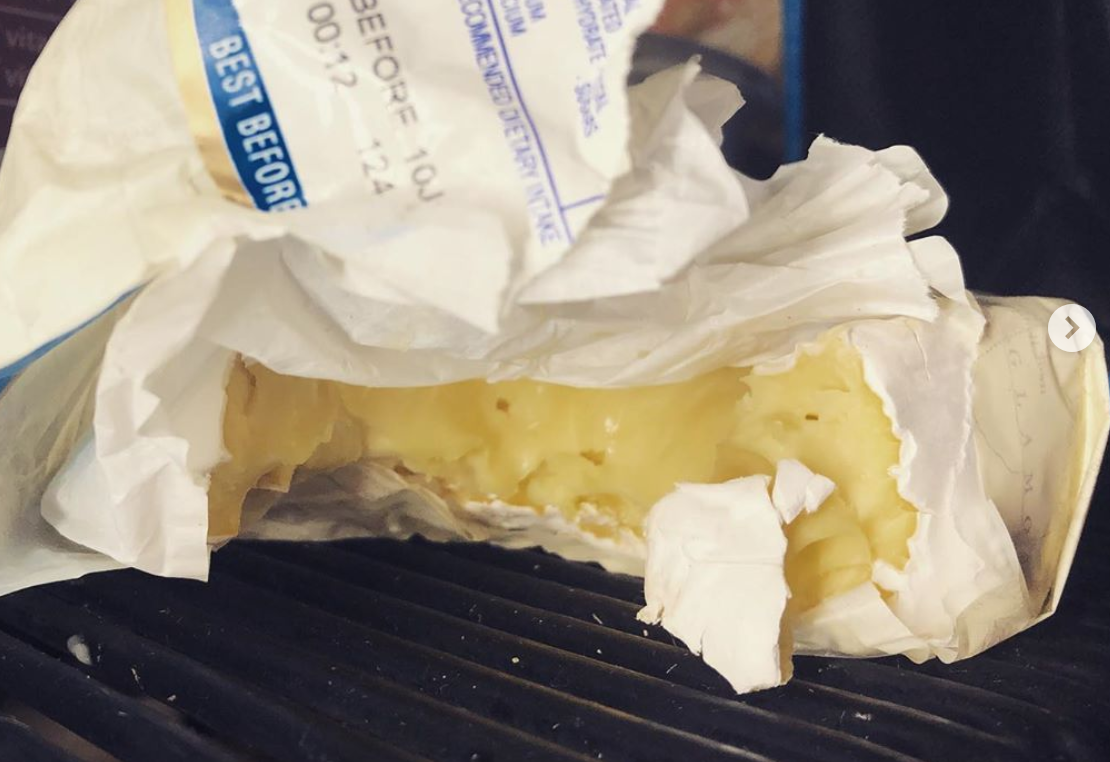camembert: (82, 247, 1106, 703)
